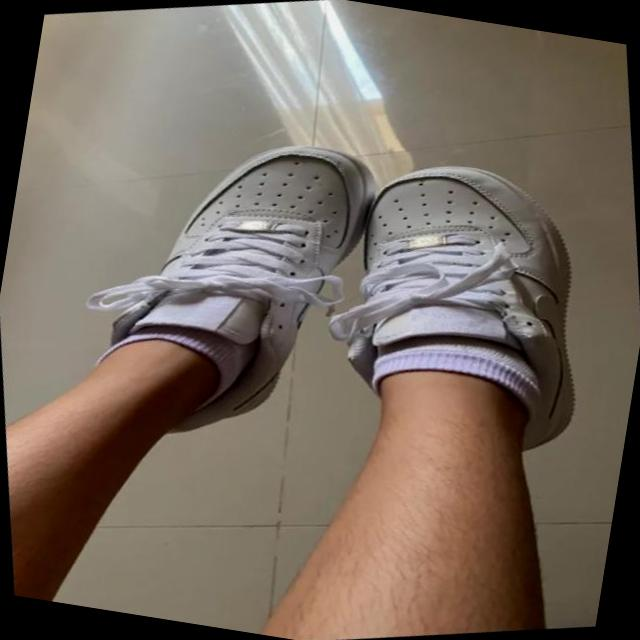nike_fake_airforce: (30, 94, 428, 468), (269, 116, 640, 502)
